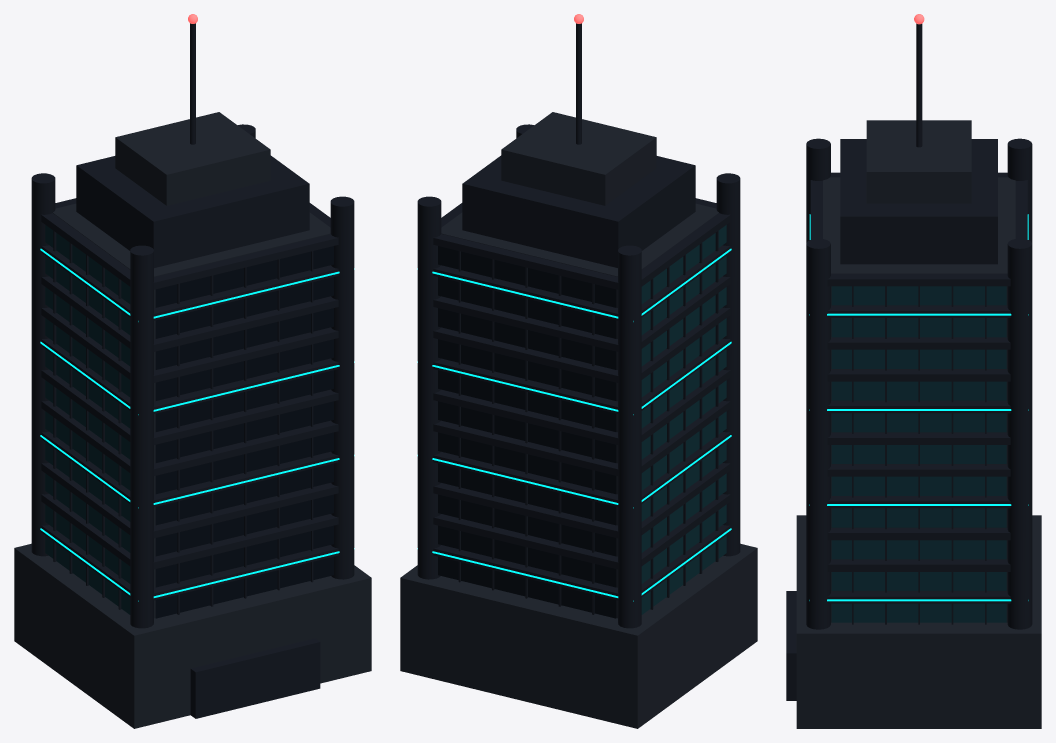
File: corporate_skyscraper.glb
The picture shows the model from 3 angles, left to right: view 1: azimuth 30°, elevation 25°; view 2: azimuth 150°, elevation 25°; view 3: azimuth 270°, elevation 25°; orthographic projection. The views are drawn at different scales.
Parts seen in each view (by area): view 1: Corporate_Megatower_T1; view 2: Corporate_Megatower_T1; view 3: Corporate_Megatower_T1.
Part boxes in pixels (x1,y1,x2,y2): Corporate_Megatower_T1: (14,14,371,728); Corporate_Megatower_T1: (400,14,757,728); Corporate_Megatower_T1: (786,14,1041,728).
Bounding box in the file's own units: 32 × 82.6 × 29.2.
